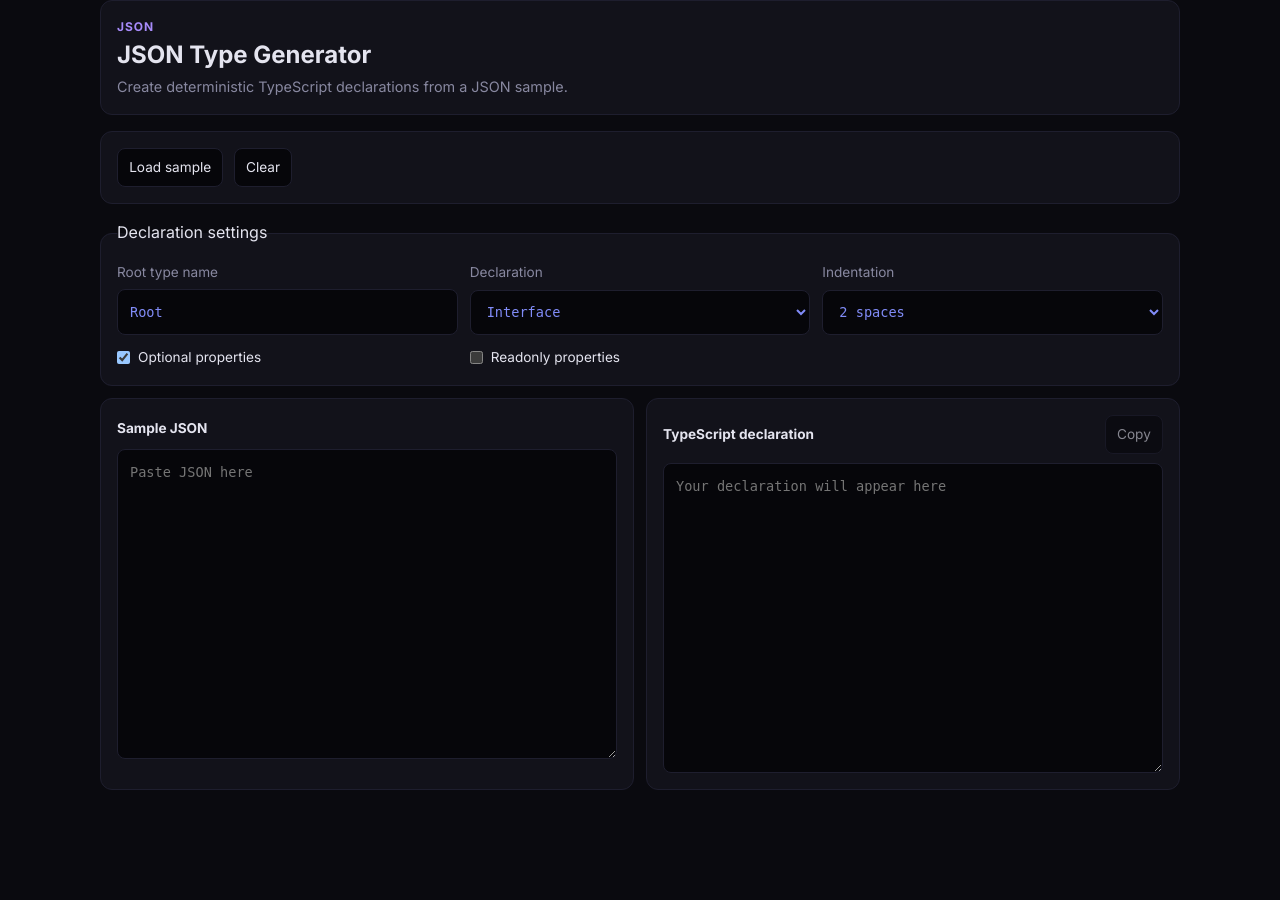
JsonTypeGeneratorTool › loads a representative sample and clears source and output
Click the button with aria-label "Load representative JSON sample": (170, 168) [117, 148, 223, 187]
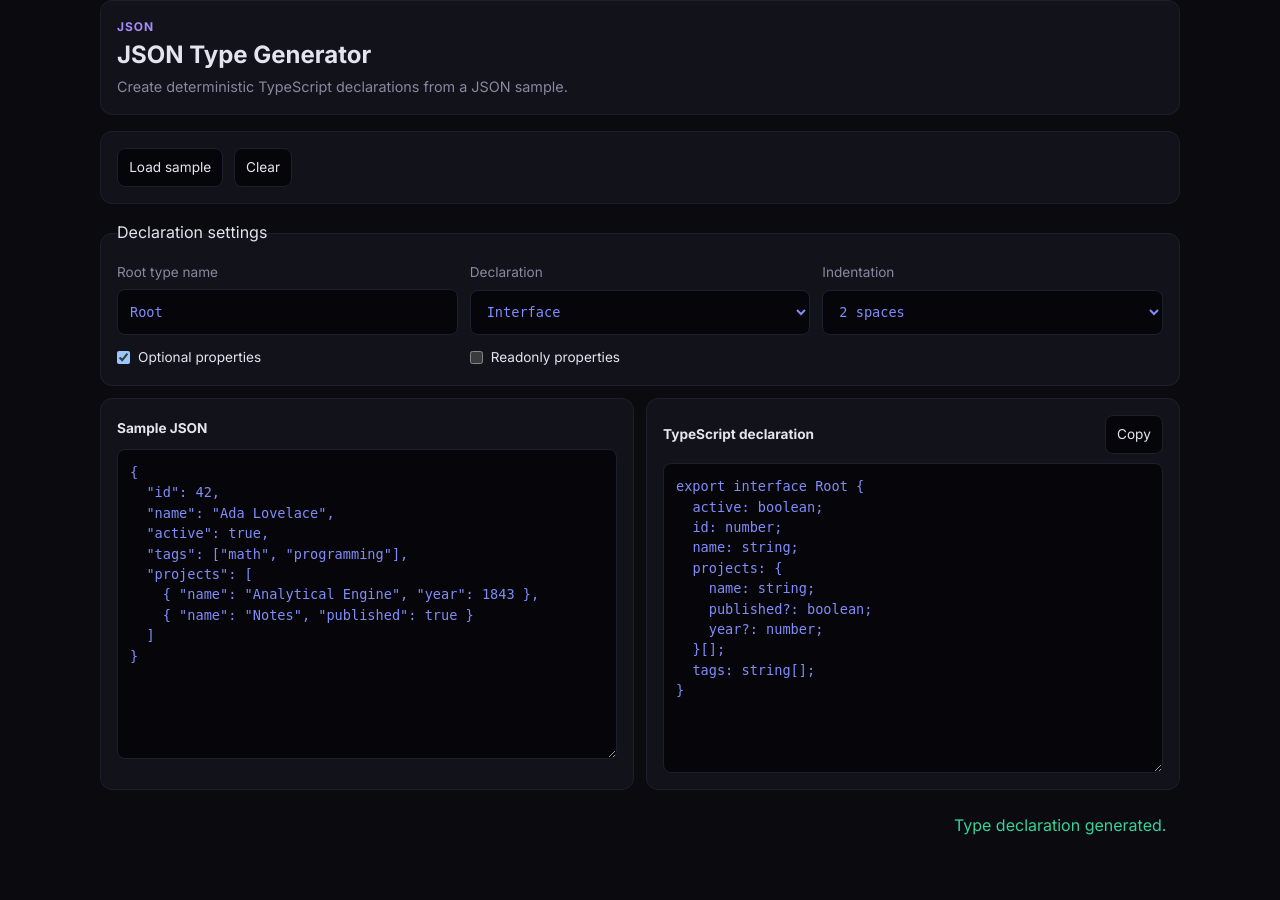
Check: the text box labelled "TypeScript declaration" is not empty, box [663, 463, 1163, 773]
Click the button with aria-label "Clear JSON input and generated declaration": (263, 168) [234, 148, 292, 187]
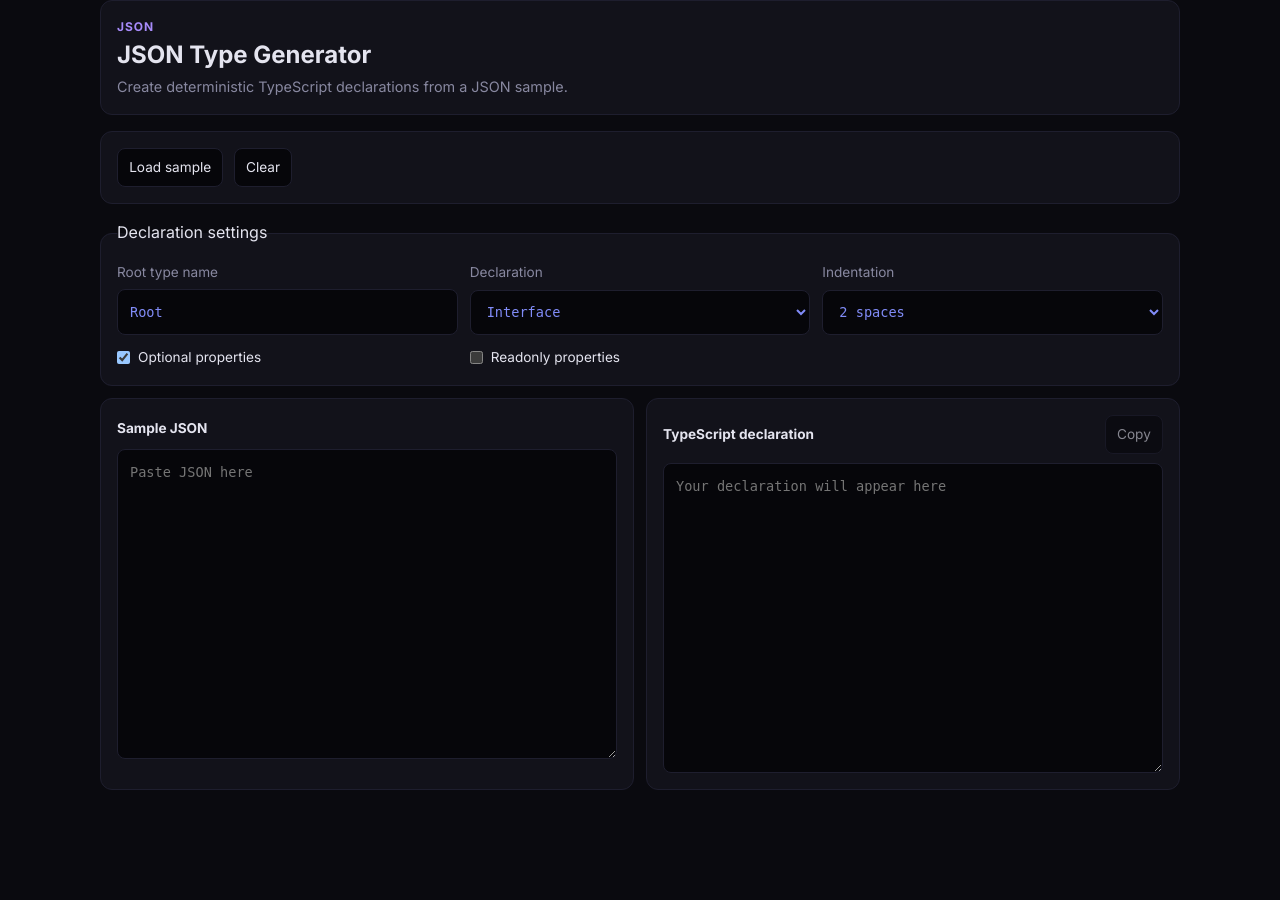
Check: the text box labelled "Sample JSON" is empty, box [117, 449, 617, 759]
Check: the text box labelled "TypeScript declaration" is empty, box [663, 463, 1163, 773]
